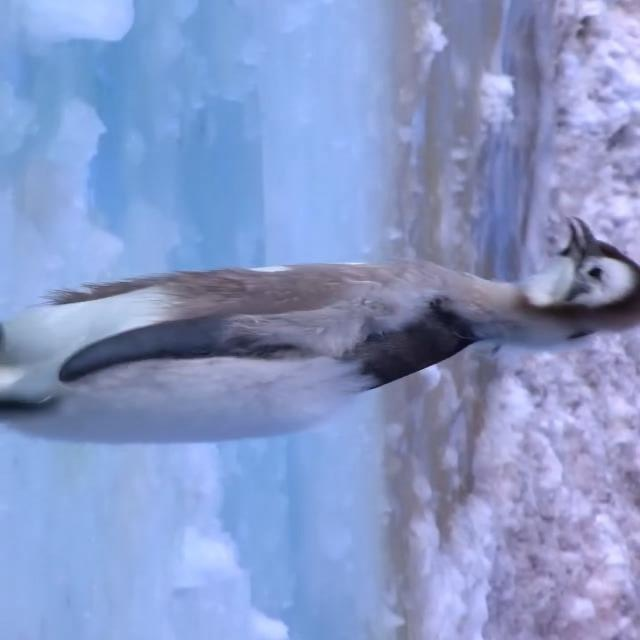penguin: (2, 216, 637, 444)
